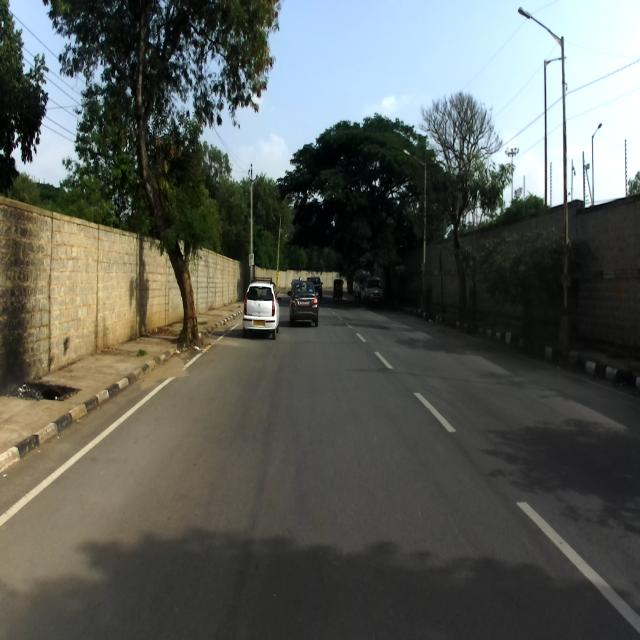car ahead at: (240, 281, 279, 334), (286, 281, 319, 328)
tree ahead at: (154, 204, 209, 344)
